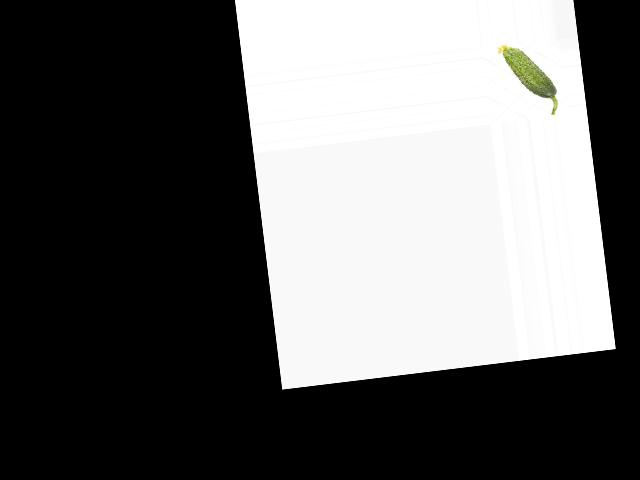cucumber: (496, 38, 559, 119)
